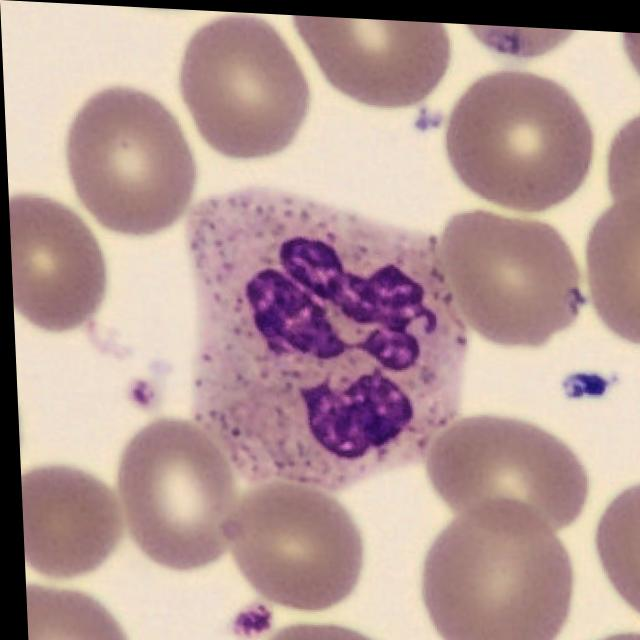Neutrofilo segmentado: (185, 185, 465, 490)
